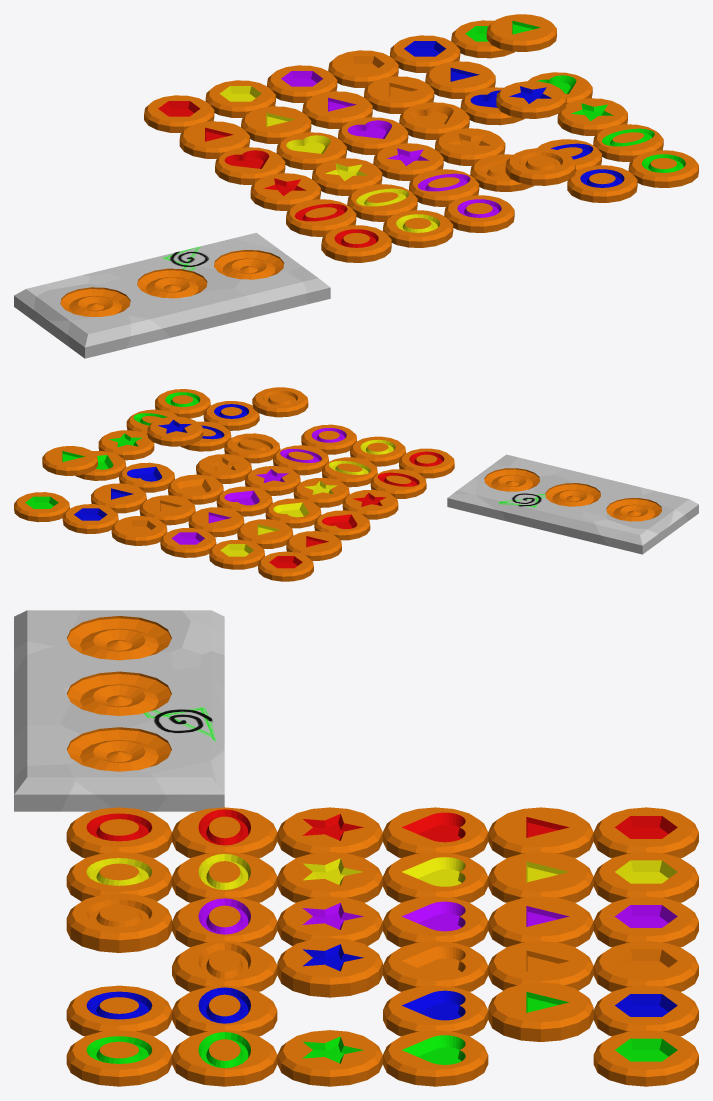
File: final_last_puzzle.fbx
The picture shows the model from 3 angles, top to bottom: view 1: azimuth 30°, elevation 25°; view 2: azimuth 150°, elevation 25°; view 3: azimuth 270°, elevation 25°; orthographic projection. The views are drawn at different scales.
Visible parts, largest first — view 1: Plane_sockets, star.004, Circle, Circle.003, triangle.005, Circle.004, Circle.001, Circle.002, Circle.005, star, heart, oval (+25 smaller); view 2: Plane_sockets, star.004, Circle.003, octagon, triangle.005, octagon.002, octagon.004, octagon.005, octagon.001, octagon.003, heart, Circle (+25 smaller); view 3: Plane_sockets, triangle.005, Circle.003, heart.005, Circle.005, oval.005, star.005, octagon.005, star.004, oval.004, oval, star (+22 smaller).
Part boxes in pixels (x1,y1,x2,y2): Plane_sockets: (14, 232, 330, 358); star.004: (496, 81, 566, 118); Circle: (321, 225, 391, 262); Circle.003: (505, 148, 575, 185); triangle.005: (486, 14, 556, 51); Circle.004: (567, 165, 637, 202); Circle.001: (383, 210, 453, 247); Circle.002: (444, 195, 514, 232); Circle.005: (628, 150, 698, 187); star: (250, 173, 320, 210); heart: (215, 147, 285, 184); oval: (286, 199, 356, 236); Plane_sockets: (447, 454, 698, 554); star.004: (147, 416, 203, 446); Circle.003: (252, 387, 308, 417); octagon: (258, 551, 313, 581); triangle.005: (42, 446, 97, 475); octagon.002: (160, 528, 216, 557); octagon.004: (62, 504, 118, 533); octagon.005: (14, 492, 69, 522); octagon.001: (209, 539, 264, 569); octagon.003: (111, 516, 167, 545); heart: (314, 510, 370, 540); Circle: (399, 448, 454, 478); Plane_sockets: (14, 610, 224, 811); triangle.005: (488, 982, 593, 1038); Circle.003: (66, 893, 171, 949); heart.005: (383, 1030, 488, 1086); Circle.005: (66, 1030, 171, 1086); oval.005: (172, 1030, 277, 1086); star.005: (277, 1030, 382, 1086); octagon.005: (593, 1030, 698, 1086); star.004: (277, 938, 382, 994); oval.004: (172, 985, 277, 1036); oval: (172, 807, 277, 858); star: (277, 807, 382, 858).
Size of the model in its own units: 2100 by 160 by 1300.
8 materials, 1 textured.
